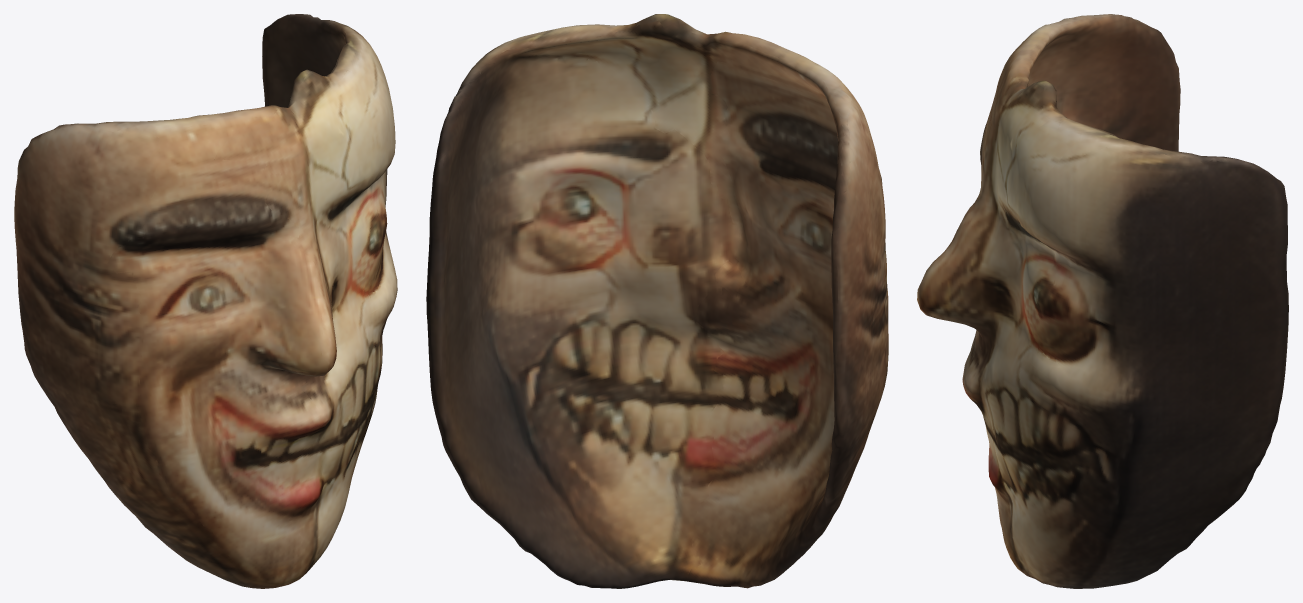
Rendered from muerto.glb.
The picture shows the model from 3 angles, left to right: view 1: azimuth 30°, elevation 25°; view 2: azimuth 150°, elevation 25°; view 3: azimuth 270°, elevation 25°; orthographic projection. The views are drawn at different scales.
Visible parts, largest first — view 1: mesh; view 2: mesh; view 3: mesh.
Part boxes in pixels (<box>): mesh: <box>14,14,397,588</box>; mesh: <box>426,14,888,588</box>; mesh: <box>917,14,1288,588</box>.
Bounding box in the file's own units: 1.28 × 1.73 × 1.16.
Materials: 1 (1 with a texture image).
